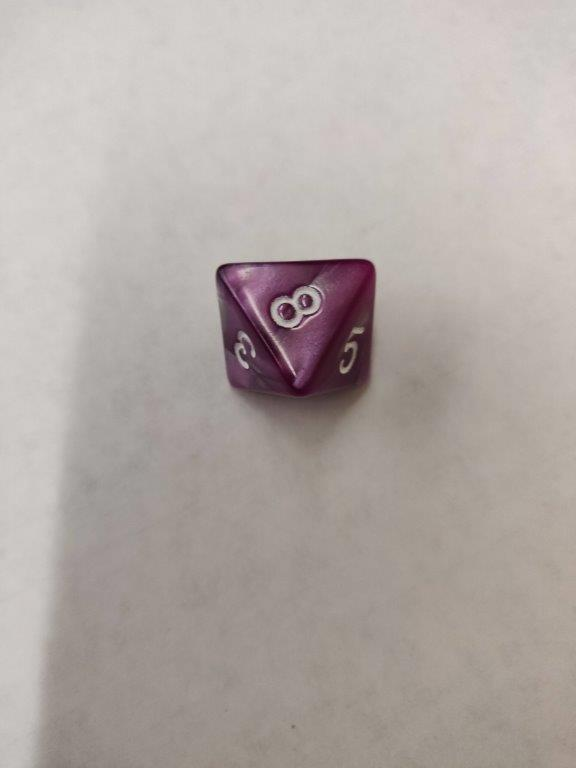d8-8: (217, 261, 373, 398)
